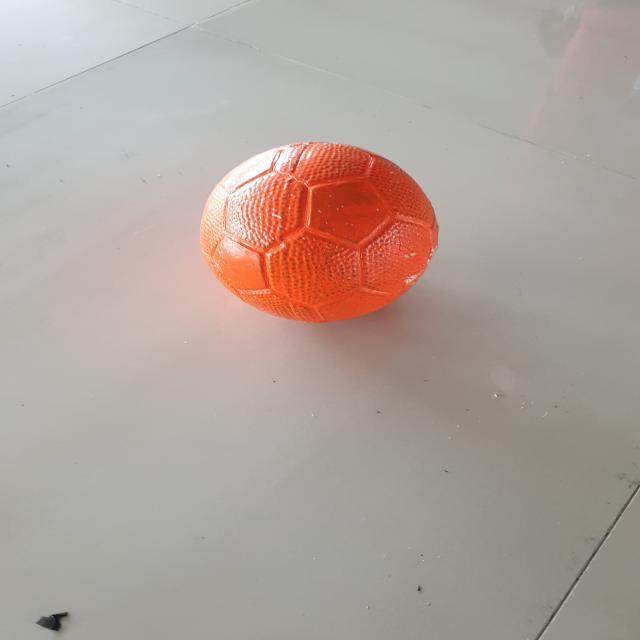bola: (162, 133, 480, 325)
